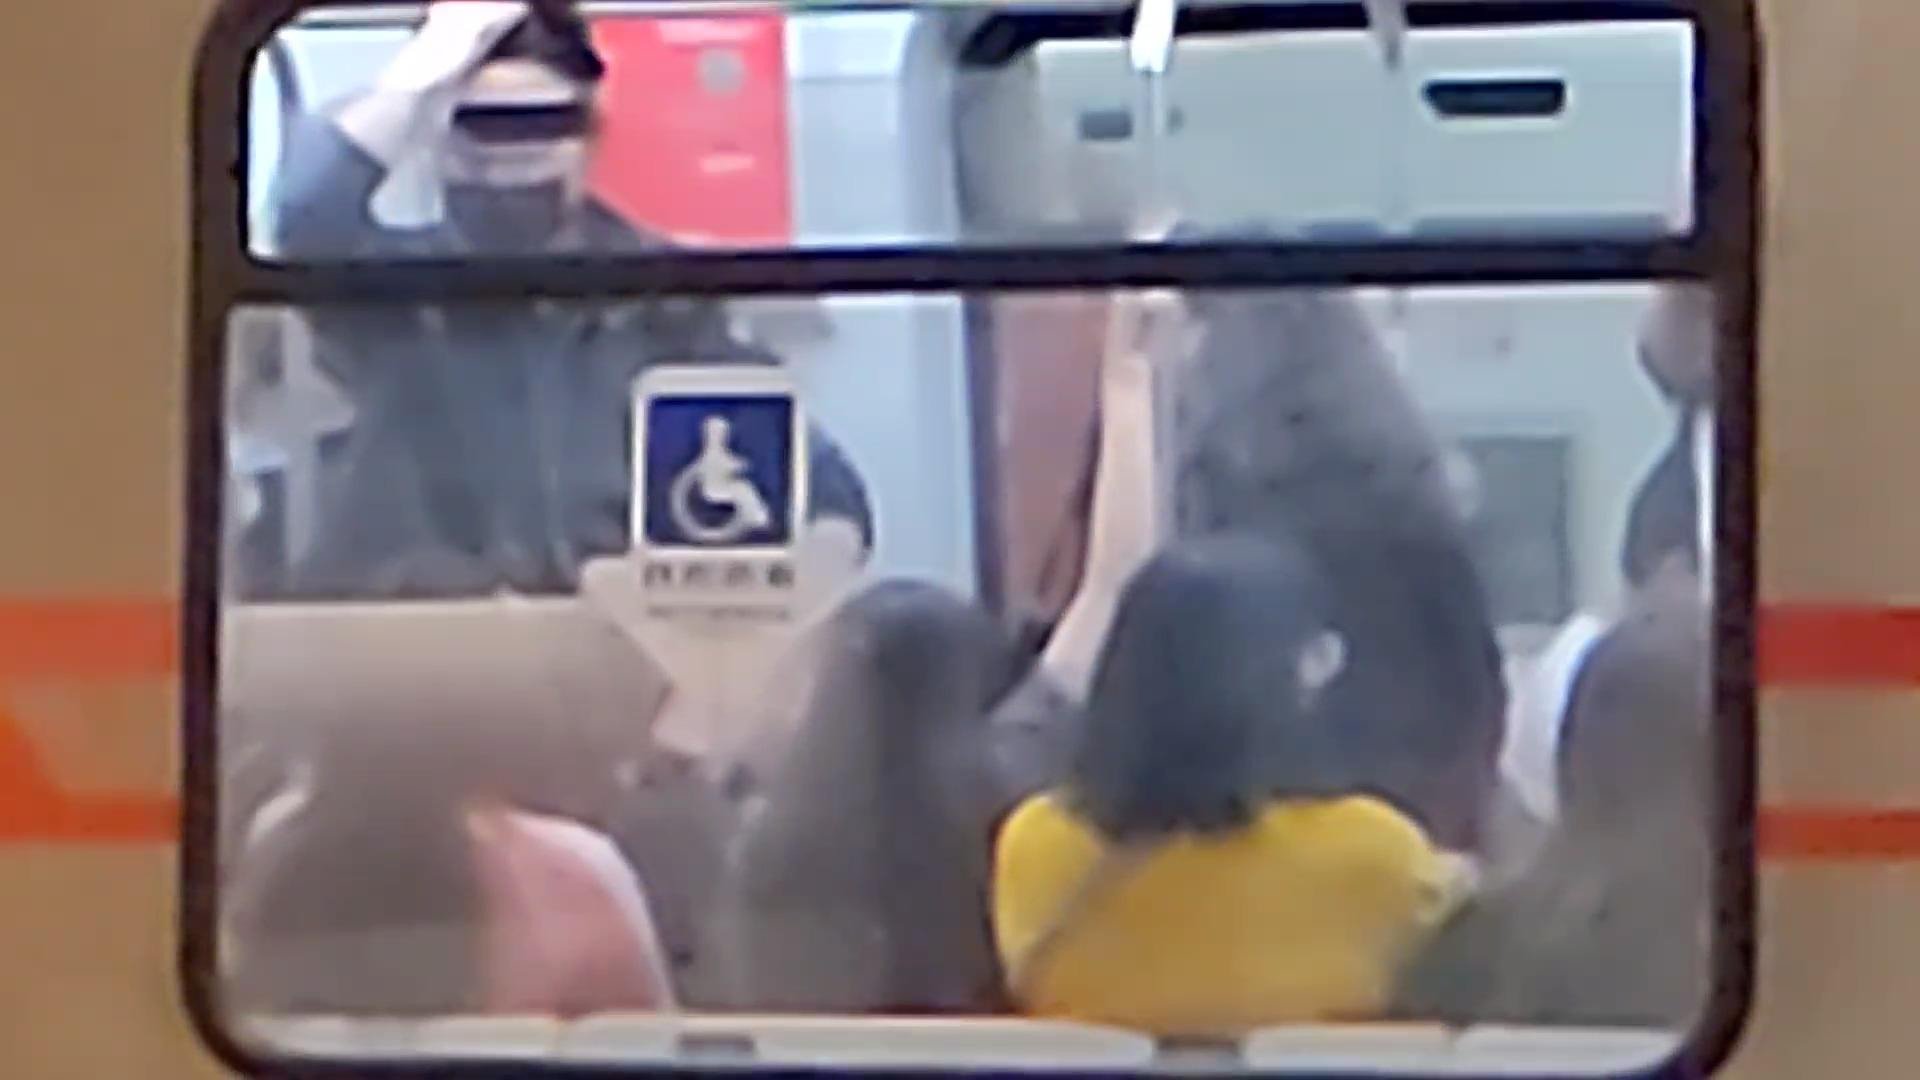handicapped symbol: (669, 417, 773, 547)
